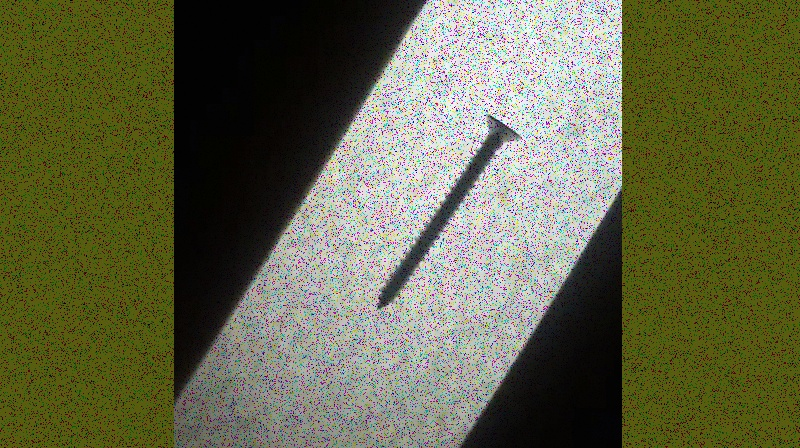S002: (375, 108, 524, 311)
